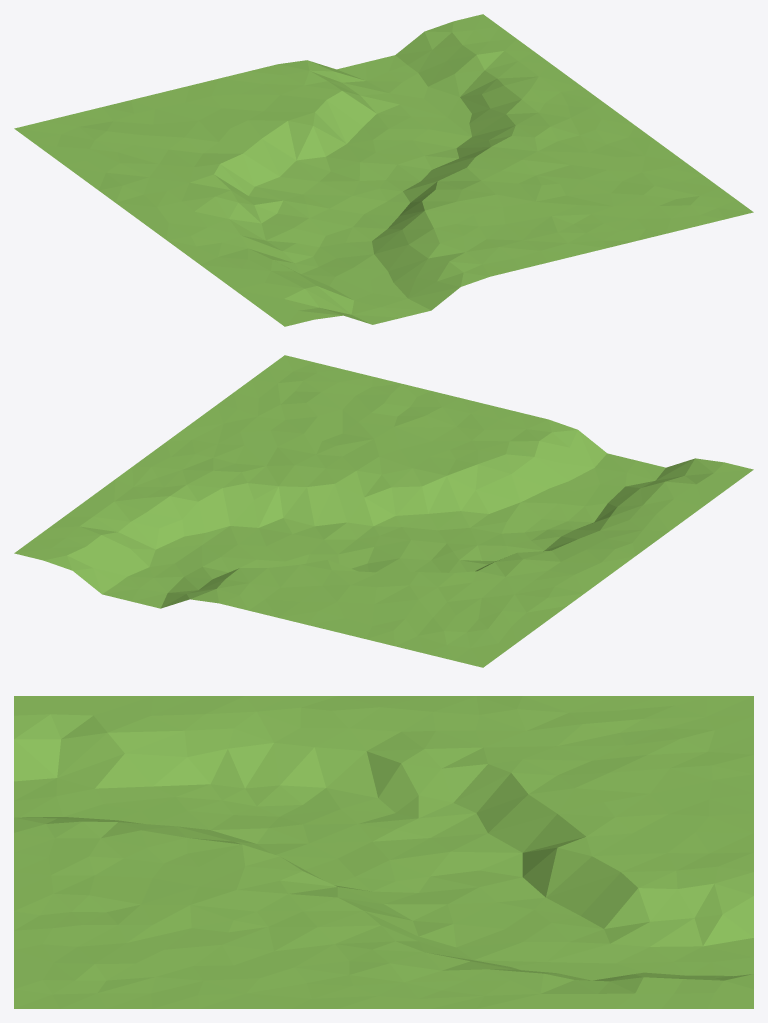
Rendered from MT_River_M_c_02.fbx.
The picture shows the model from 3 angles, top to bottom: view 1: azimuth 30°, elevation 25°; view 2: azimuth 150°, elevation 25°; view 3: azimuth 270°, elevation 25°; orthographic projection. The views are drawn at different scales.
Visible parts, largest first — view 1: MT_River_M_c_02; view 2: MT_River_M_c_02; view 3: MT_River_M_c_02.
Boxes of the visible parts, x1,y1,x2,y2 form: MT_River_M_c_02: (14,14,753,326); MT_River_M_c_02: (14,355,753,667); MT_River_M_c_02: (14,696,753,1008).
Bounding box in the file's own units: 5000 × 254 × 5000.
